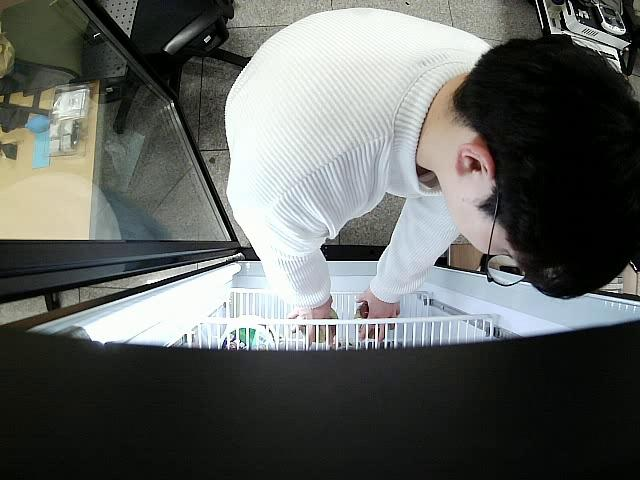00_hand: (288, 292, 339, 345), (357, 294, 401, 341)
04_chapagetti_S: (299, 309, 340, 341), (351, 305, 389, 339)
